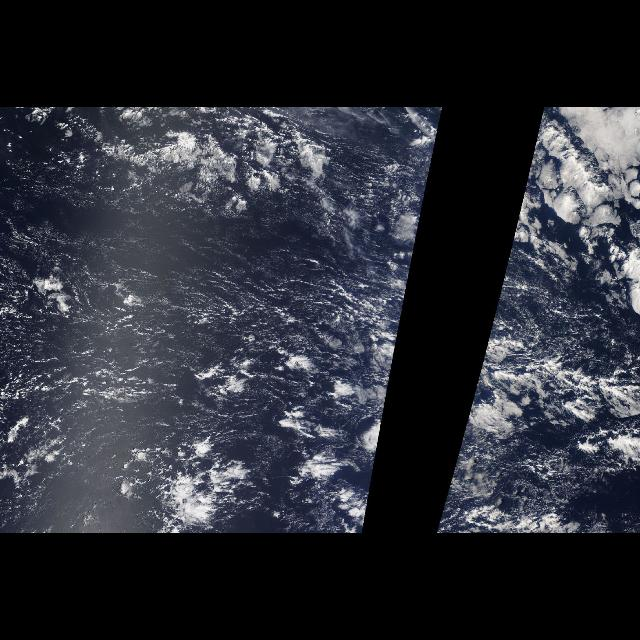Gravel: (221, 263, 397, 461)
Sugar: (8, 192, 380, 426)
